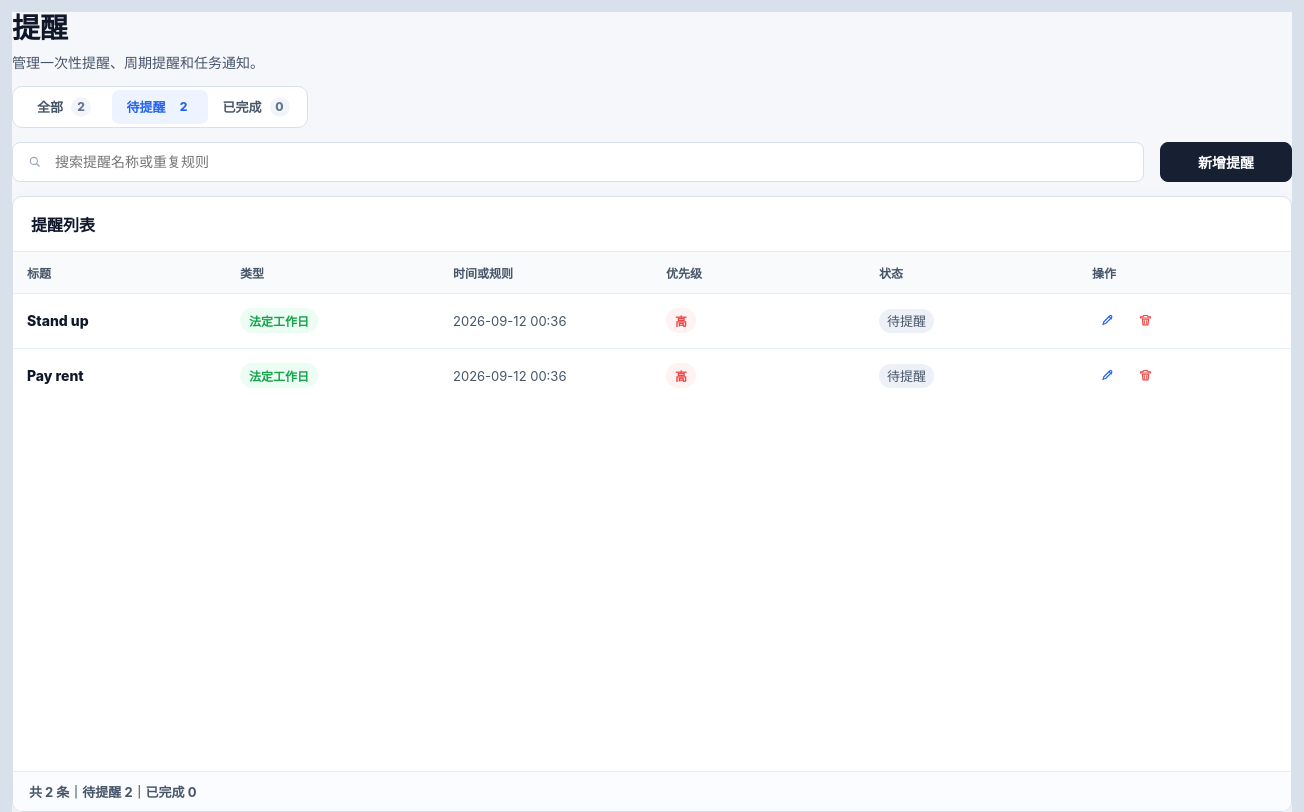
Test: searches reminders by title or repeat rule without rendering notes on cards
Type "rent" into the field with placeholder "搜索提醒名称或重复规则" at (578, 162), box [12,142,1144,182]
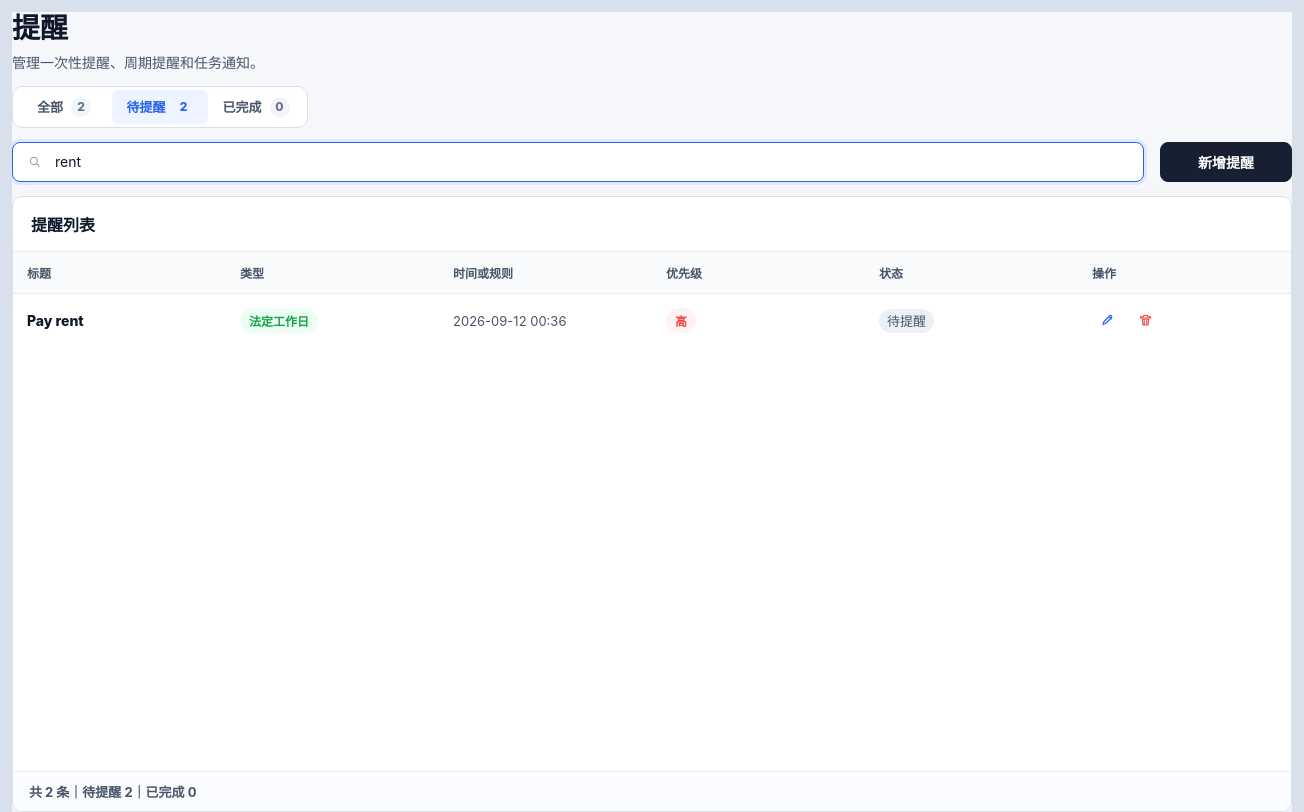
Expected: the row "Pay rent 法定工作日 2026-09-12 00:36 高 待提醒" is shown, [13,293,1291,348]
Expected: the text "Stand up" is gone
